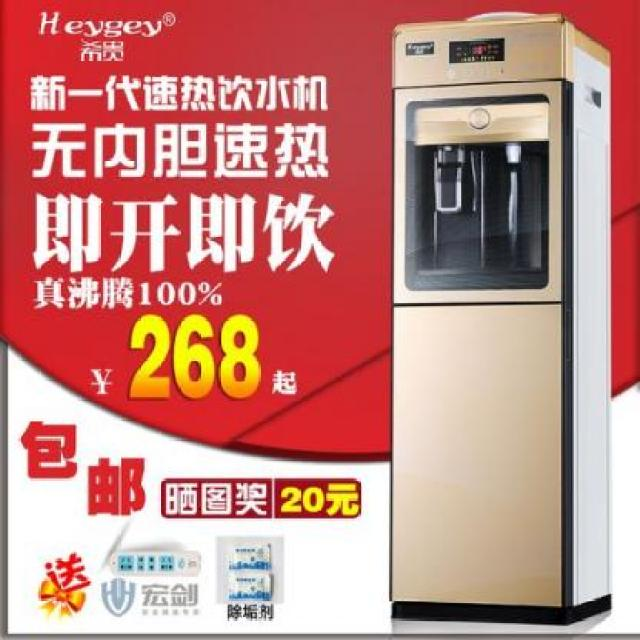cooler: (382, 6, 614, 632)
